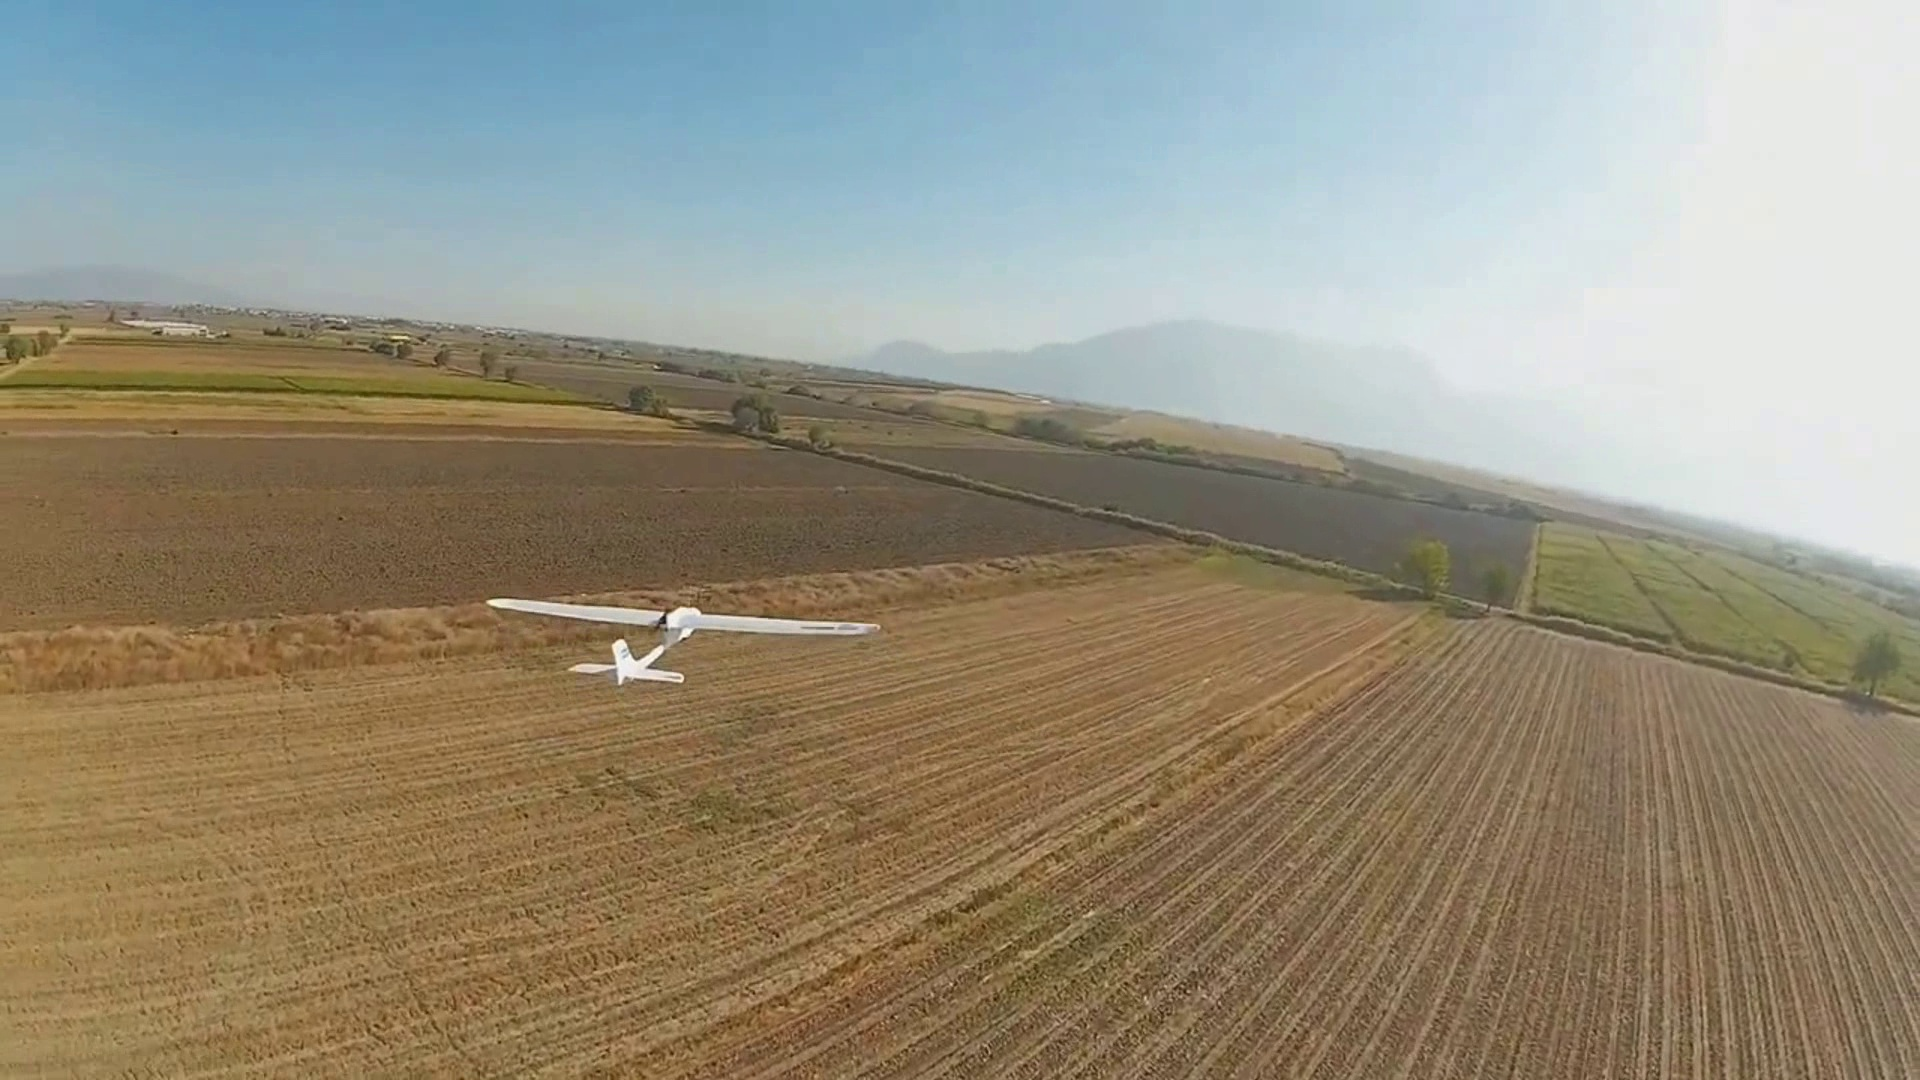airplane: (480, 598, 880, 690)
